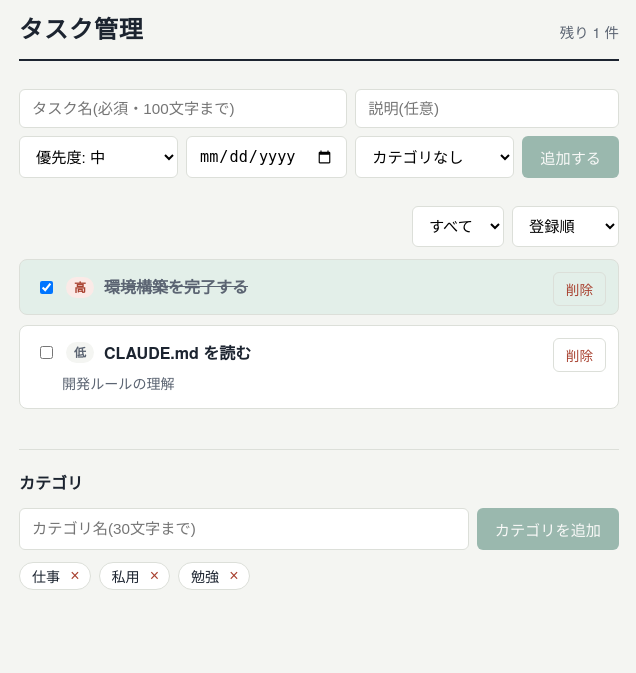
it: App › 追加フォームで優先度を選択できる
The image size is (636, 673).
expect the text "環境構築を完了する" is shown: met, box x1=104 y1=274 x2=248 y2=300
expect the dropdown named "優先度" shows "優先度: 中": met, box x1=19 y1=136 x2=178 y2=178
Type "急ぎのタスク" into the field labelled "タスク名" at (183, 109), box x1=19 y1=89 x2=347 y2=128
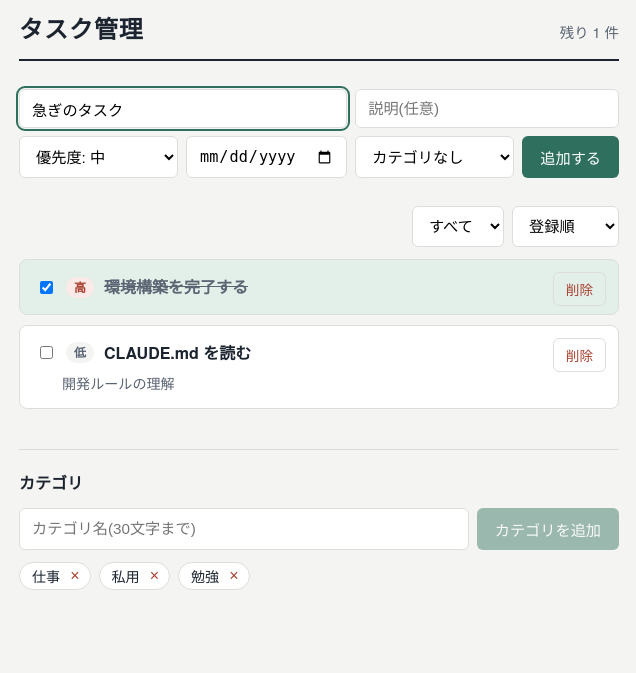
Select "優先度: 高" in the dropdown named "優先度" at (98, 157), box x1=19 y1=136 x2=178 y2=178
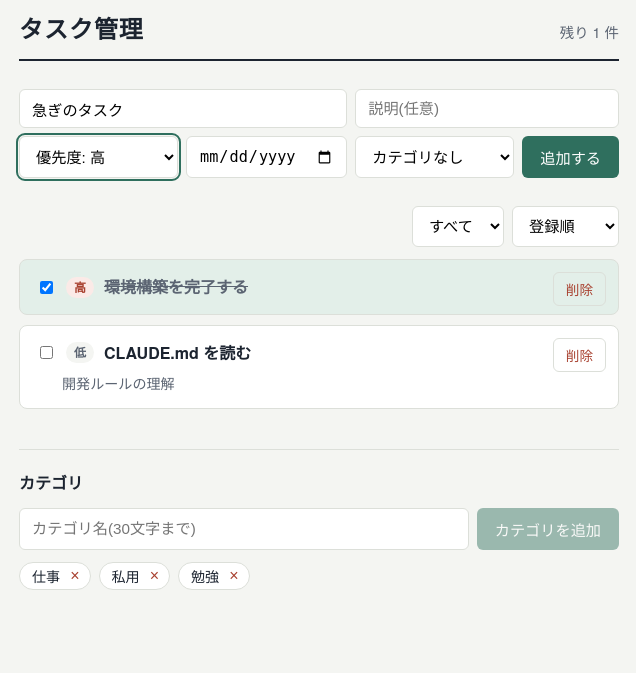
Click the button "追加する" at (571, 157), box x1=522 y1=136 x2=619 y2=178
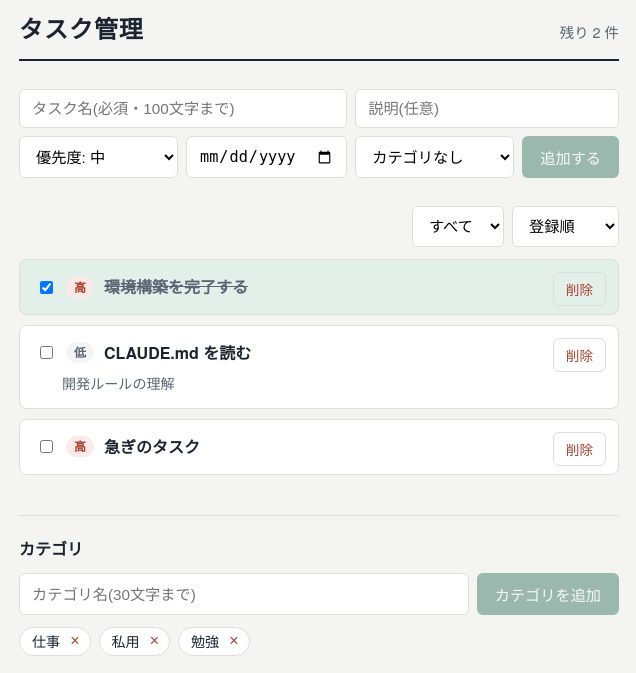
expect the text "急ぎのタスク" is shown: met, box x1=104 y1=434 x2=200 y2=460
